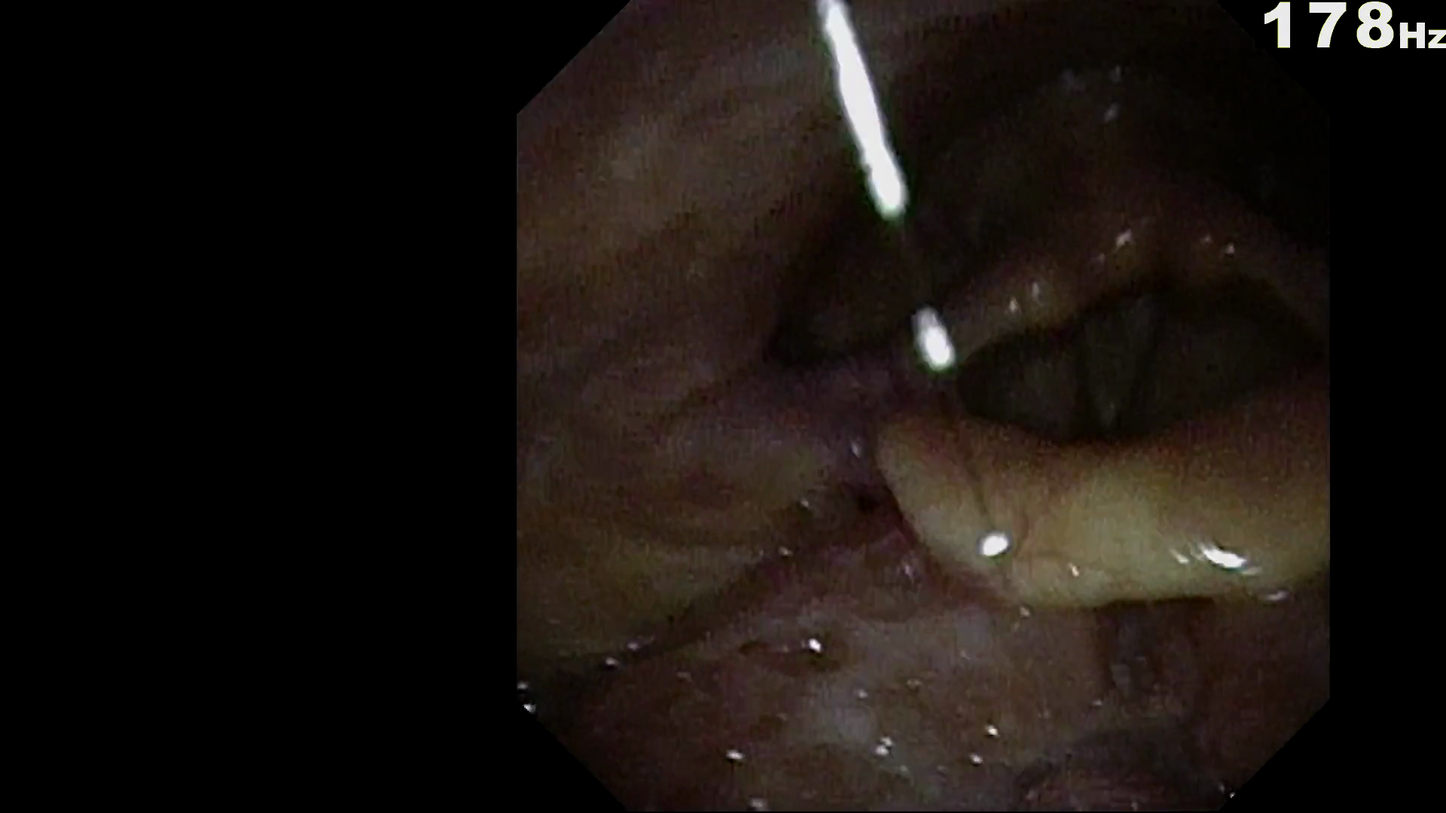epiglottis: (856, 417, 1317, 638)
trachea: (1041, 312, 1187, 466)
